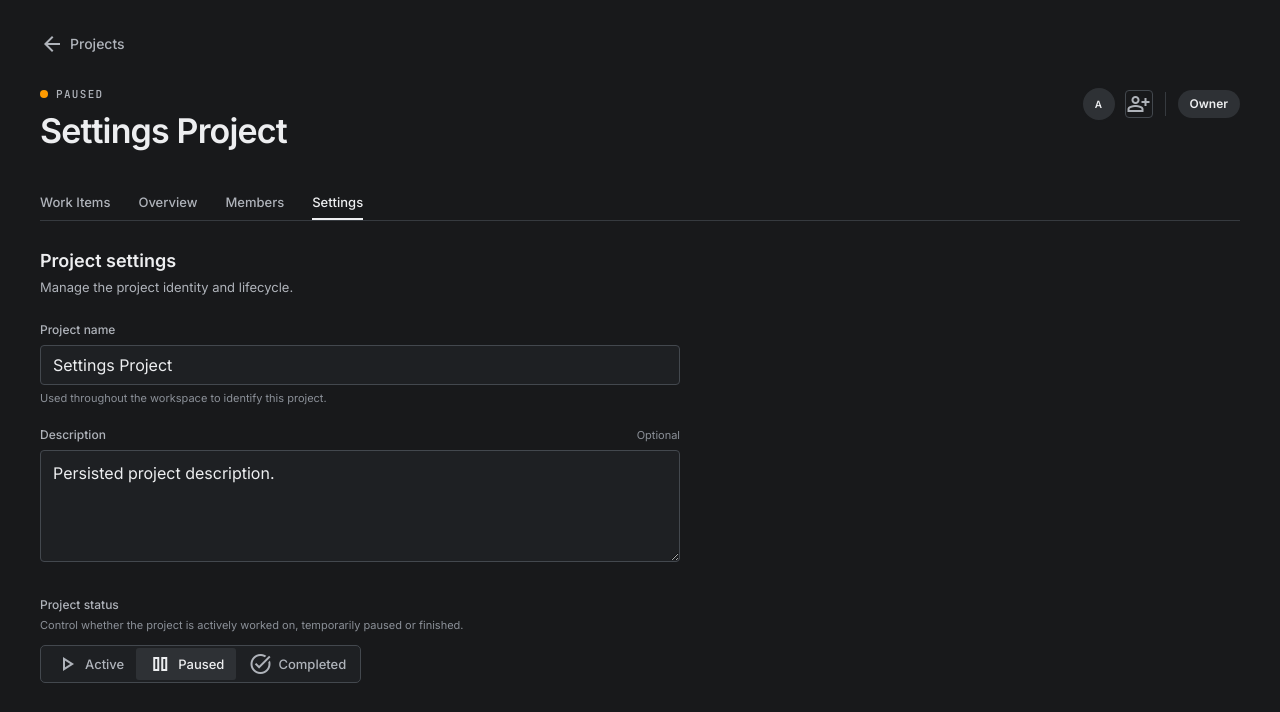
Scenario: Project Settings page › returns to a clean, unchanged state after a successful save
expect the heading "Project settings" is shown: met, box [40,250,176,271]
Replace the text in the field labelled "Project name" with "Renamed settings project" at [360, 365], box [40,345,680,385]
(page scrolled)
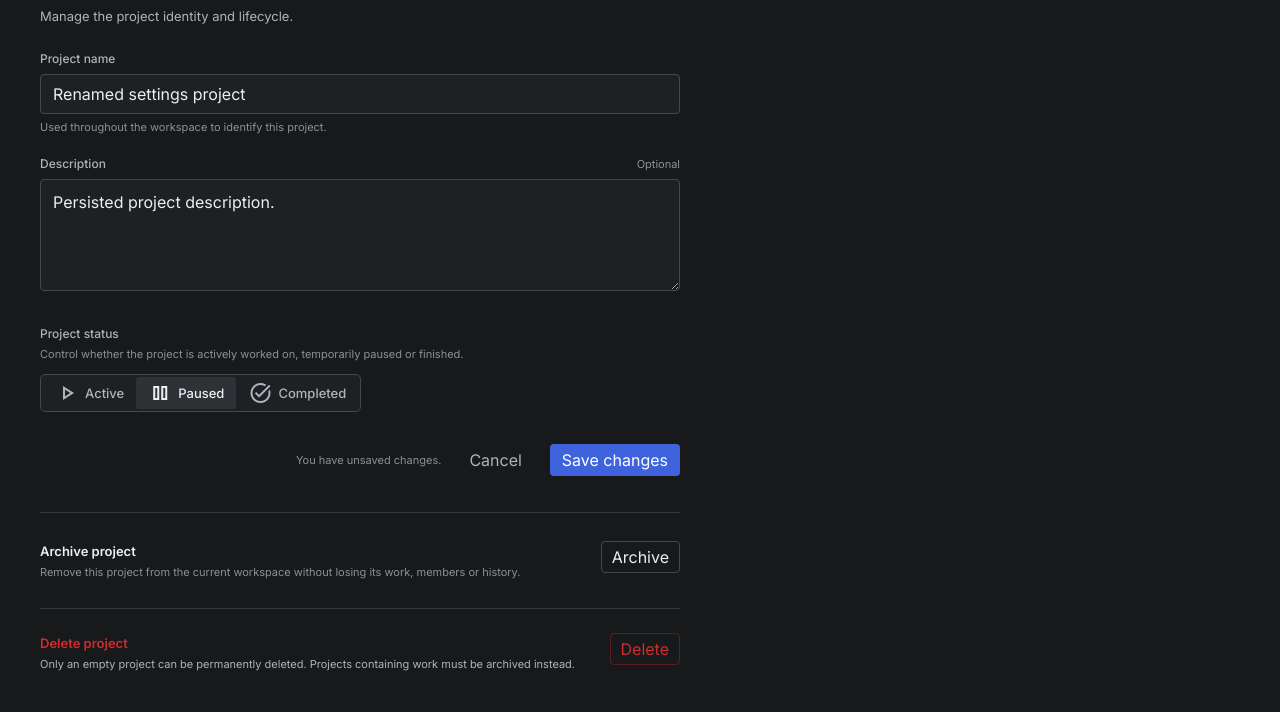
Click the button "Save changes" at [615, 460], box [550,444,680,476]
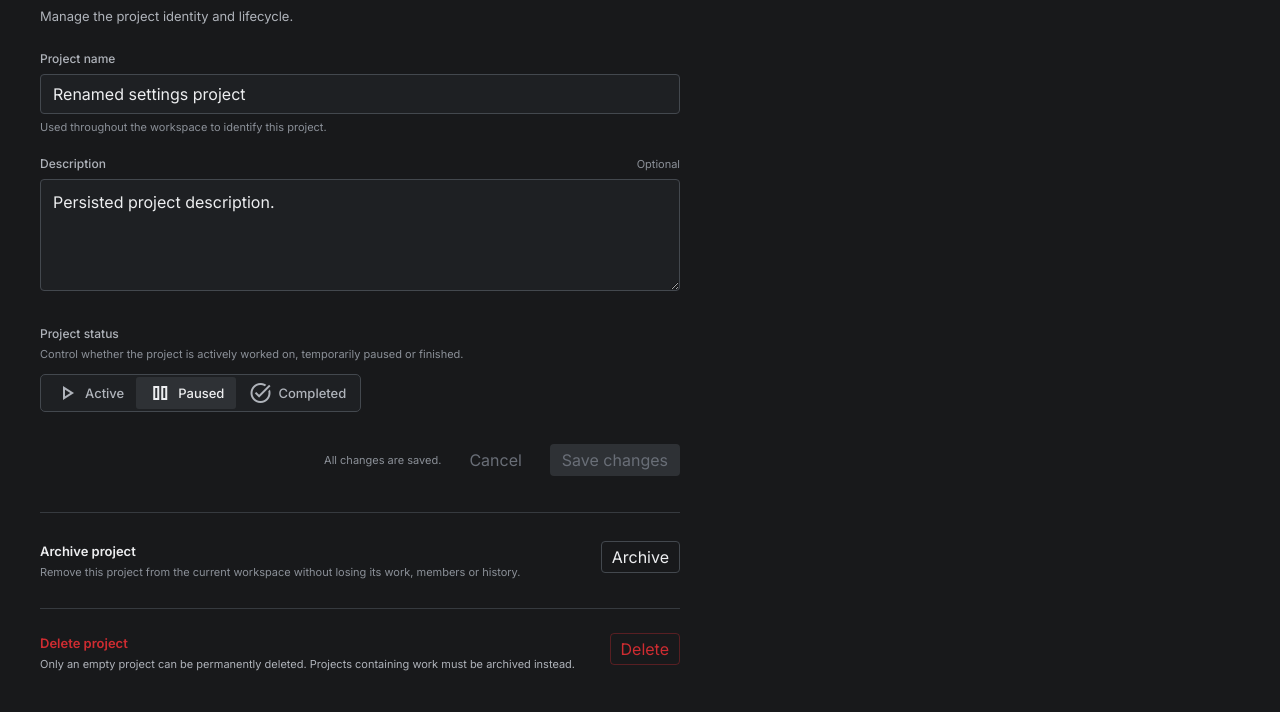
expect the radio button labelled "Paused" is checked: met, box [136,377,236,409]
expect the text "All changes are saved." is shown: met, box [324,452,441,468]
expect the button "Save changes" is disabled: met, box [550,444,680,476]
